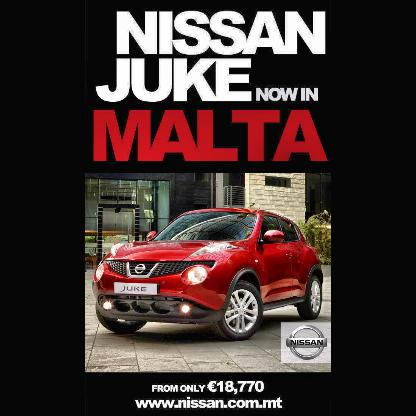Nissan Juke Hatchback 2012: (92, 203, 327, 344)
